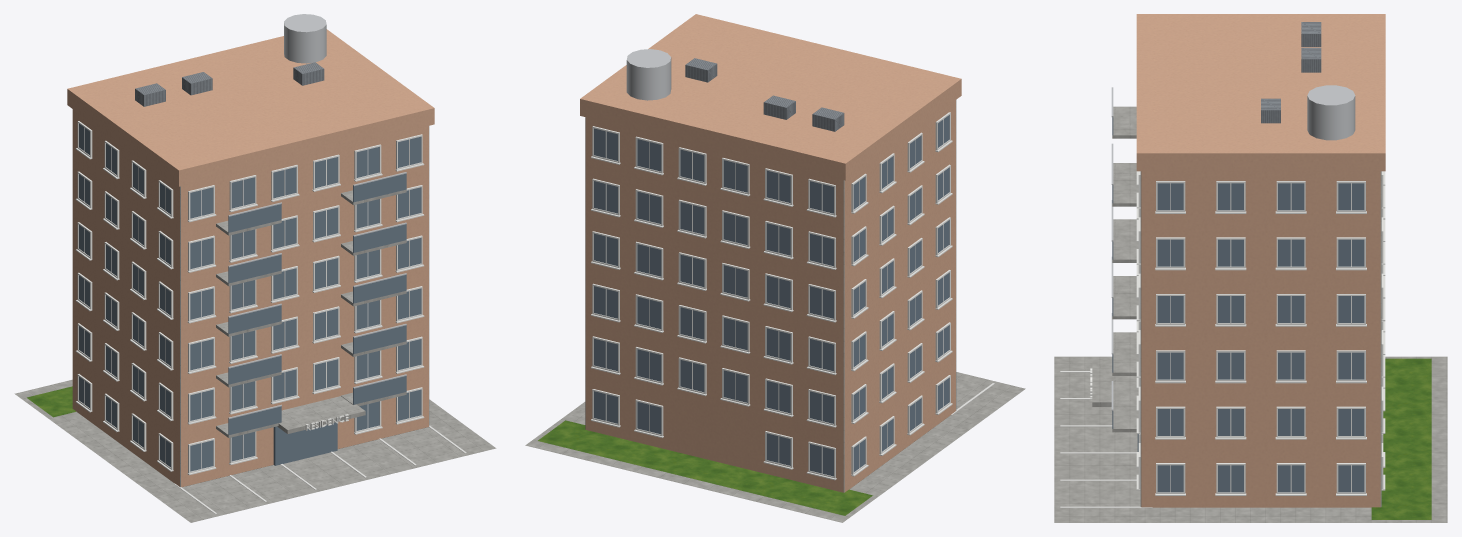
File: apartment_1.gltf
The picture shows the model from 3 angles, left to right: view 1: azimuth 30°, elevation 25°; view 2: azimuth 150°, elevation 25°; view 3: azimuth 270°, elevation 25°; orthographic projection. The views are drawn at different scales.
Visible parts, largest first — view 1: apartment_1; view 2: apartment_1; view 3: apartment_1.
Boxes of the visible parts, box(x1,y1,x2,y2) form: apartment_1: box(14, 14, 496, 522); apartment_1: box(525, 14, 1025, 522); apartment_1: box(1054, 14, 1447, 522).
Bounding box in the file's own units: 3.92 × 4.3 × 3.92.
8 materials, 4 textured.
